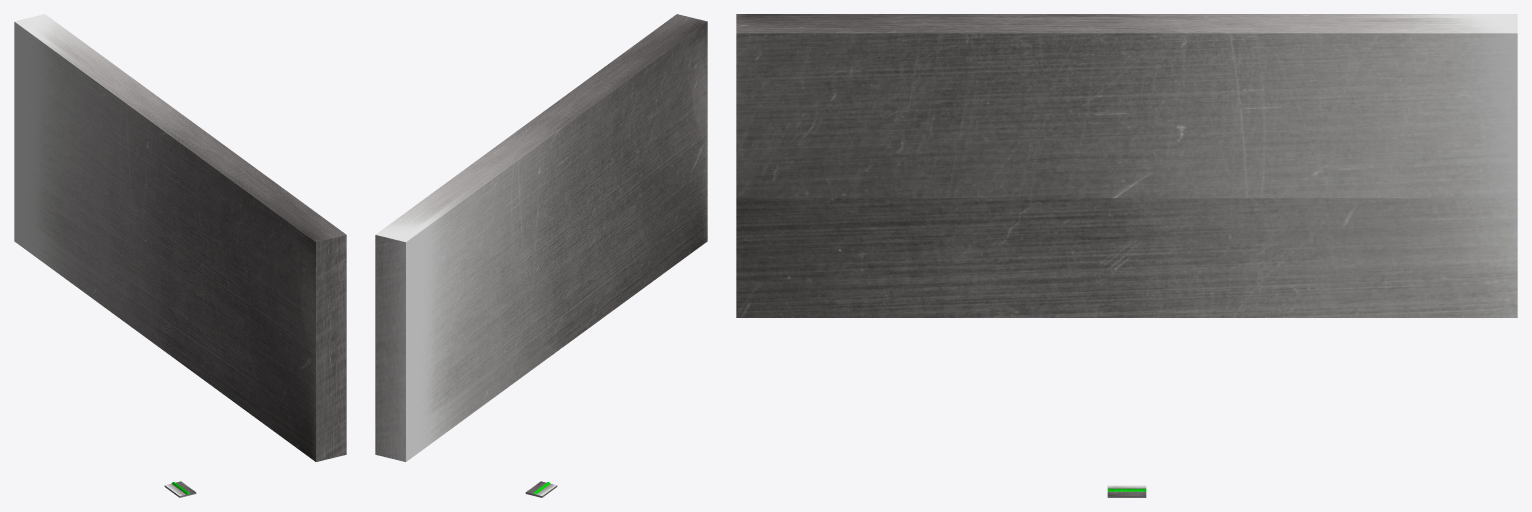
File: tool.glb
The picture shows the model from 3 angles, left to right: view 1: azimuth 30°, elevation 25°; view 2: azimuth 150°, elevation 25°; view 3: azimuth 270°, elevation 25°; orthographic projection. The views are drawn at different scales.
Parts seen in each view (by area): view 1: Cube.003; view 2: Cube.003; view 3: Cube.003.
Boxes of the visible parts, box(x1,y1,x2,y2) form: Cube.003: box(14, 14, 346, 461); Cube.003: box(375, 14, 707, 461); Cube.003: box(736, 14, 1517, 317).
Bounding box in the file's own units: 0.4715 × 5.31 × 8.02.
Materials: 2 (1 with a texture image).
